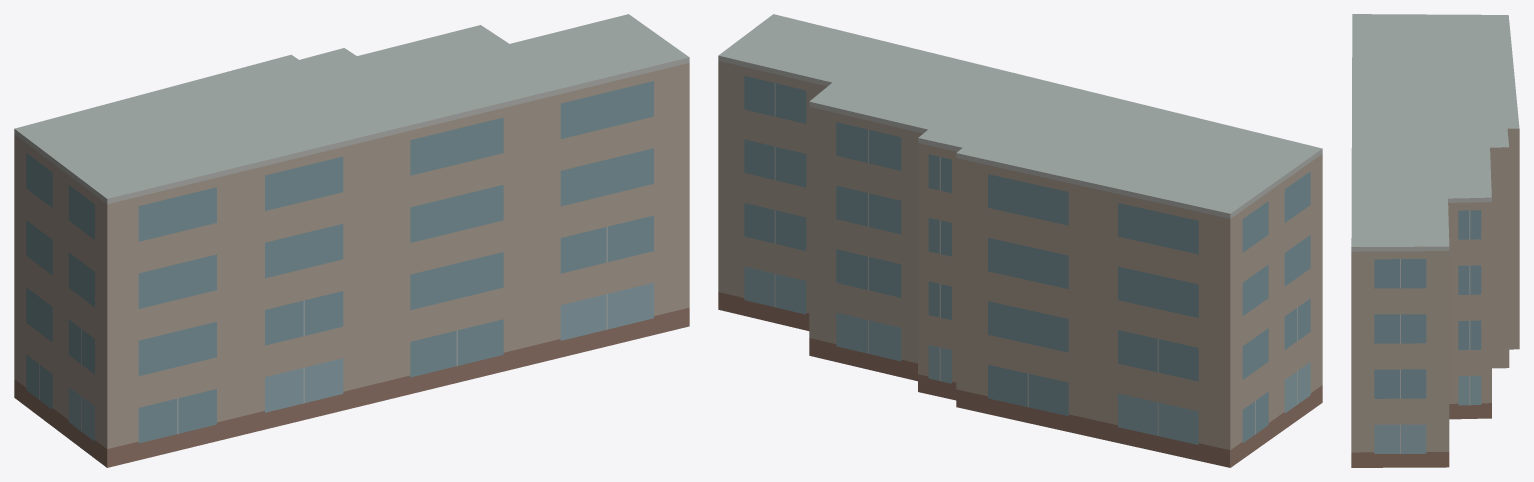
The model's file is survey-upis-32871131.glb.
3 renders of one model, left to right at view 1: azimuth 30°, elevation 25°; view 2: azimuth 150°, elevation 25°; view 3: azimuth 270°, elevation 25°, orthographic. The views are drawn at different scales.
Visible parts, largest first — view 1: survey-upis-32871131.tmp; view 2: survey-upis-32871131.tmp; view 3: survey-upis-32871131.tmp.
Part boxes in pixels (box(x1,y1,x2,y2)): survey-upis-32871131.tmp: box(14, 14, 689, 467); survey-upis-32871131.tmp: box(718, 14, 1322, 467); survey-upis-32871131.tmp: box(1351, 14, 1519, 467).
Bounding box in the file's own units: 27.64 × 12.2 × 8.43.
